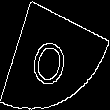O_N: (32, 23, 78, 87)
